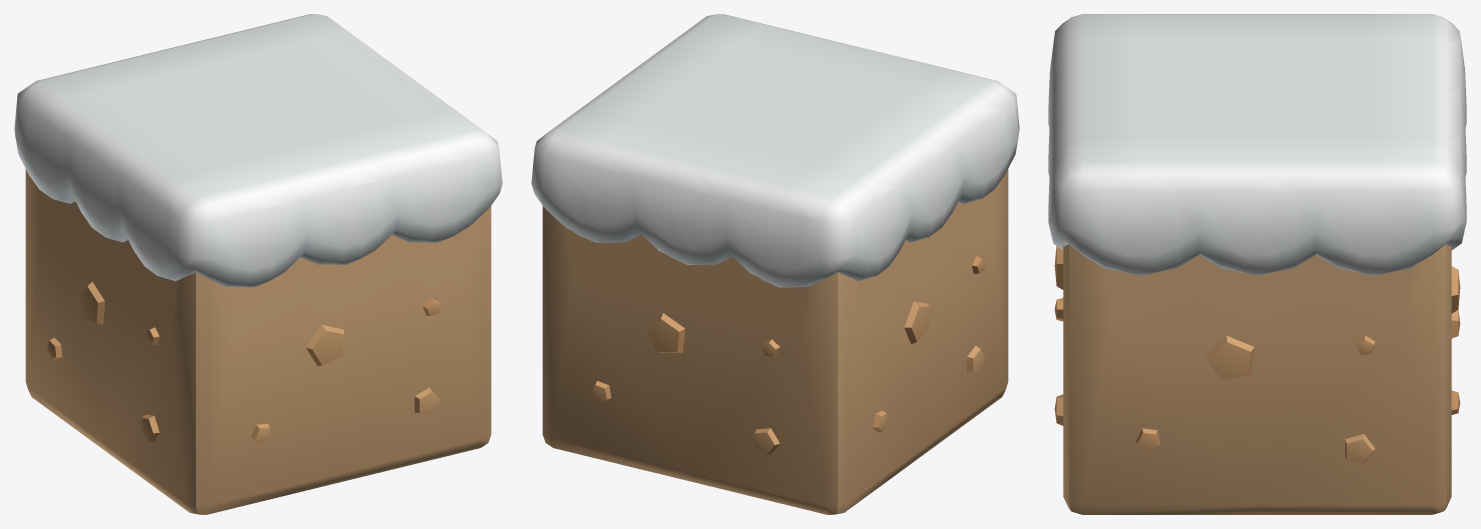
File: sand_with_snow.glb
The picture shows the model from 3 angles, left to right: view 1: azimuth 30°, elevation 25°; view 2: azimuth 150°, elevation 25°; view 3: azimuth 270°, elevation 25°; orthographic projection. The views are drawn at different scales.
Parts seen in each view (by area): view 1: sand_with_snow; view 2: sand_with_snow; view 3: sand_with_snow.
Part boxes in pixels (<box>): sand_with_snow: <box>14,14,502,514</box>; sand_with_snow: <box>531,14,1019,514</box>; sand_with_snow: <box>1048,14,1466,514</box>.
Bounding box in the file's own units: 2.16 × 2.04 × 2.16.
Materials: 1 (1 with a texture image).
